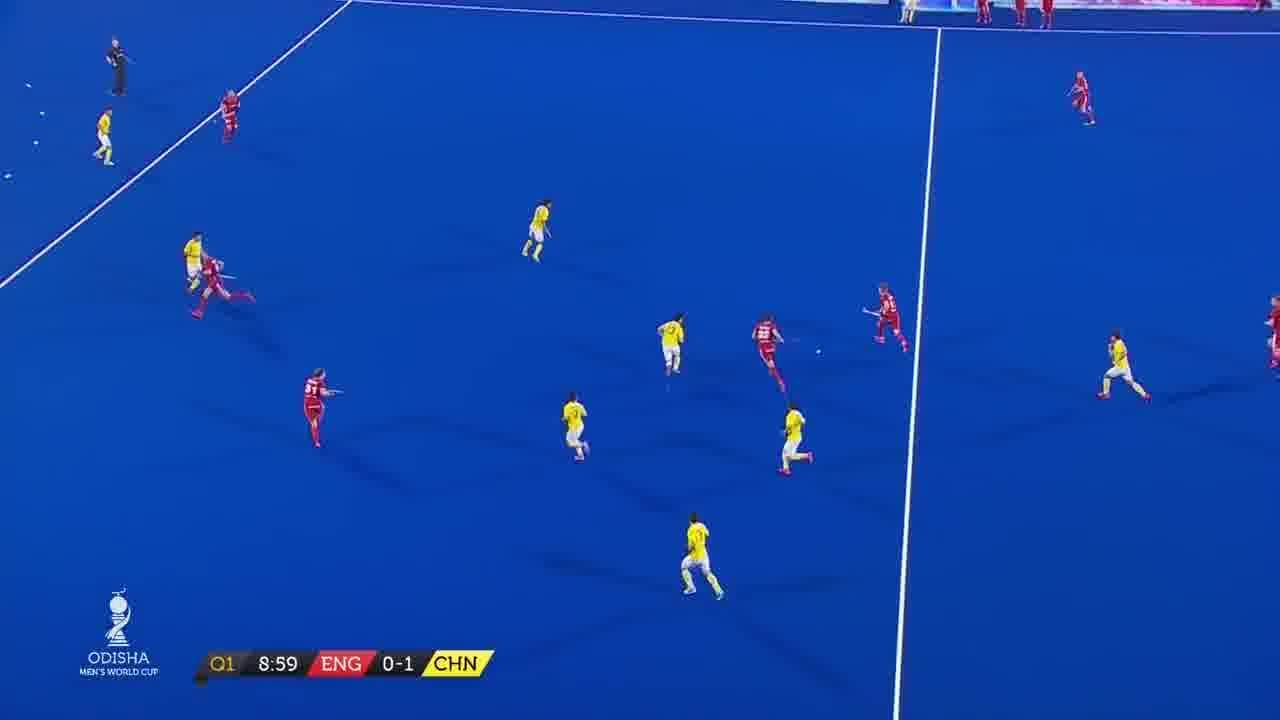ball: (815, 348, 823, 357)
